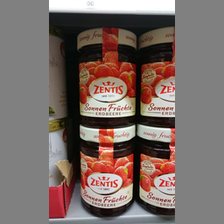jam: (76, 27, 139, 128), (77, 124, 138, 218), (138, 25, 175, 126), (134, 124, 175, 215)
